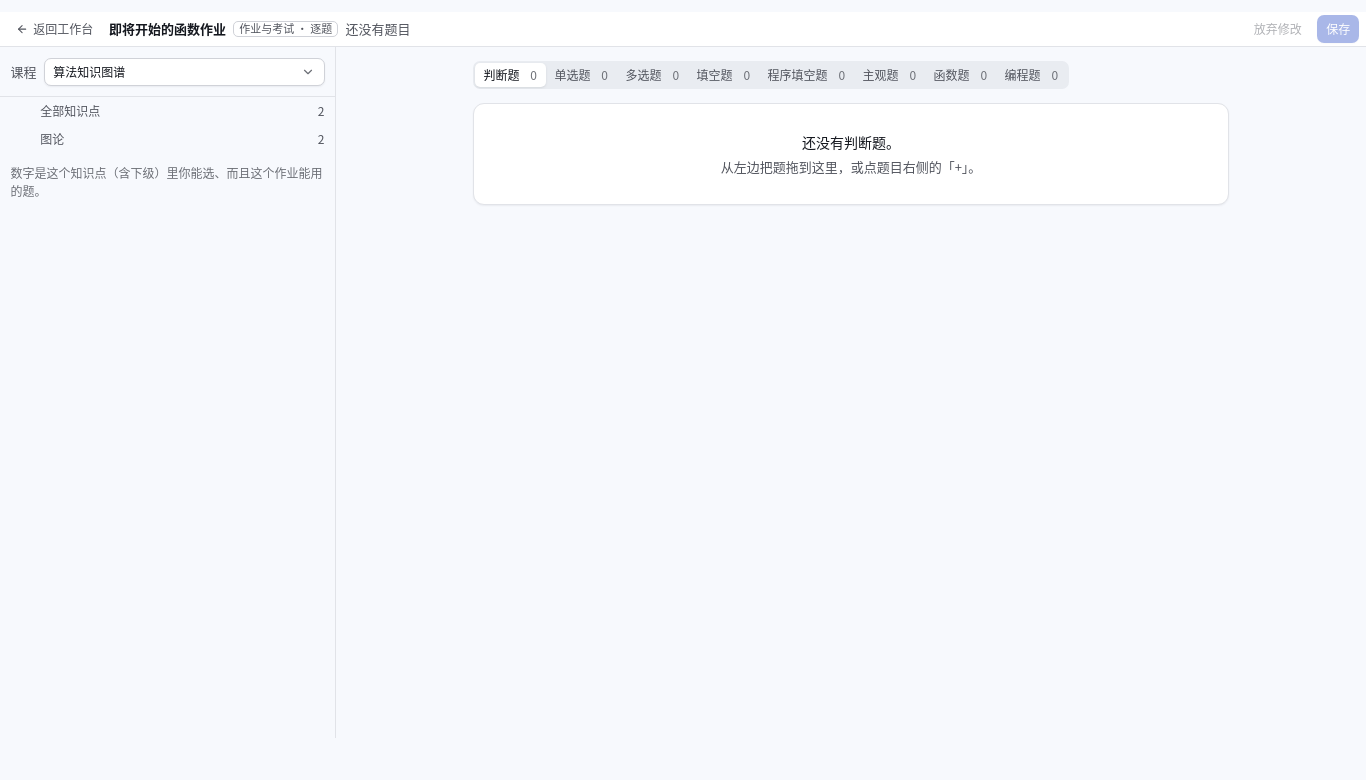
Test: teach compose page › keeps the unsaved notice mounted while clean and counts one added problem
The width and height of the screenshot is (1366, 780).
Expected: the text "即将开始的函数作业" is shown, [109,19,226,39]
Click the button "图论": (52, 138) [32,125,314,153]
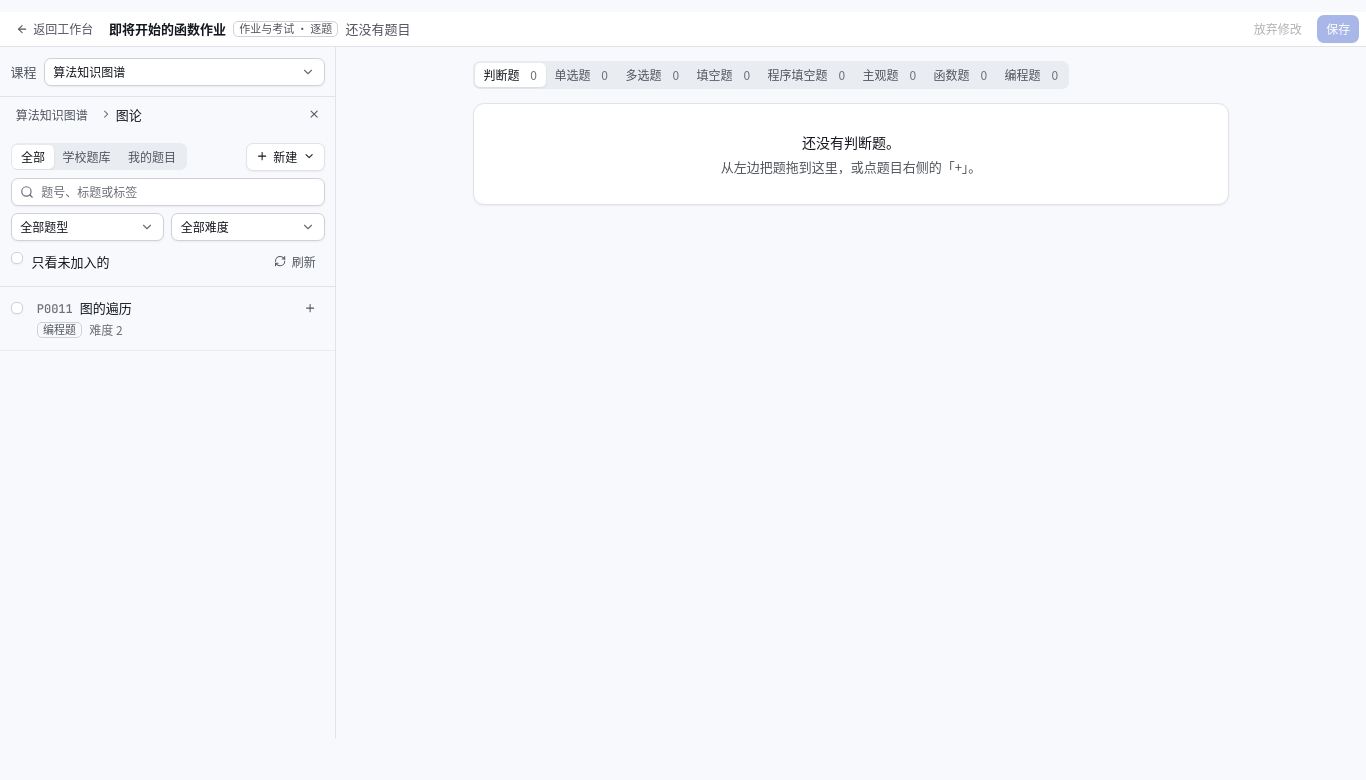
Click the button named "加入 P0011": (310, 308) [296,294,324,322]
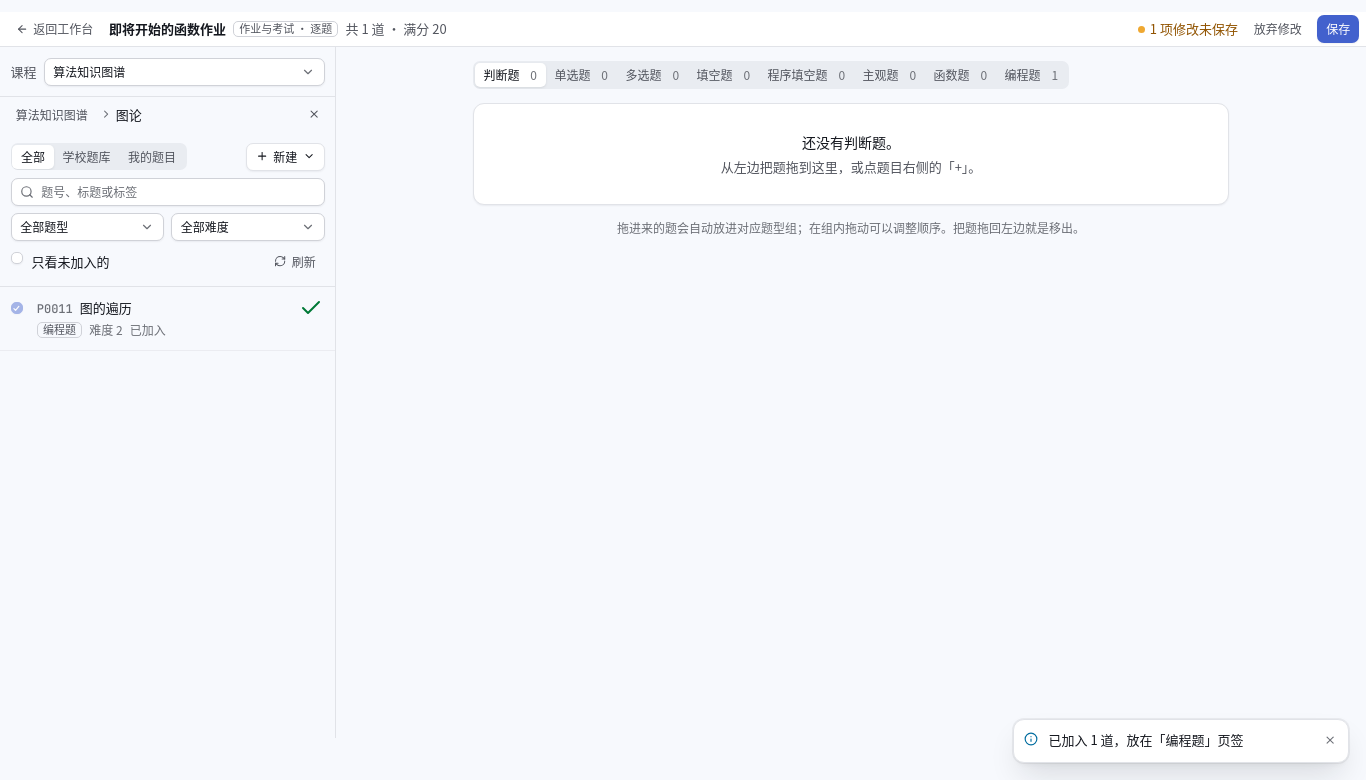
Expected: the element showing "1 项修改未保存" is shown, [1138,19,1238,39]
